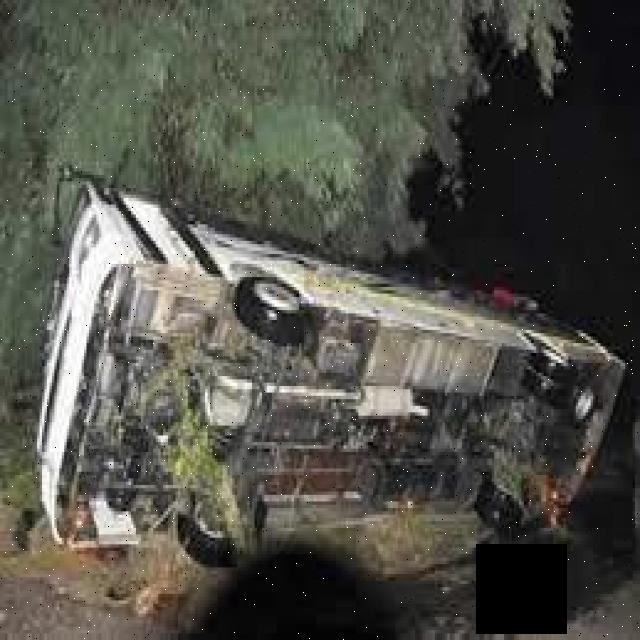severe: (30, 152, 632, 570)
